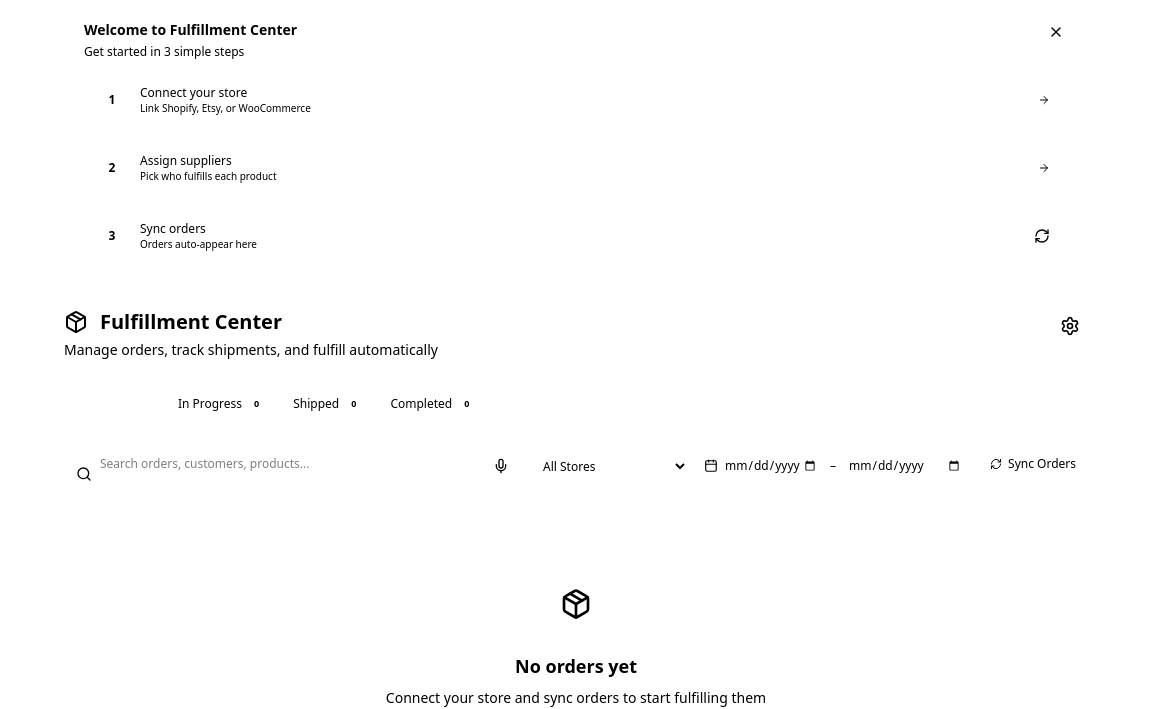
Test: FulfillmentPage › settings panel shows management tabs (Settings, Audit, Rules, Templates)
Click the button titled "Management" at (1070, 326), box [1052,308,1088,344]
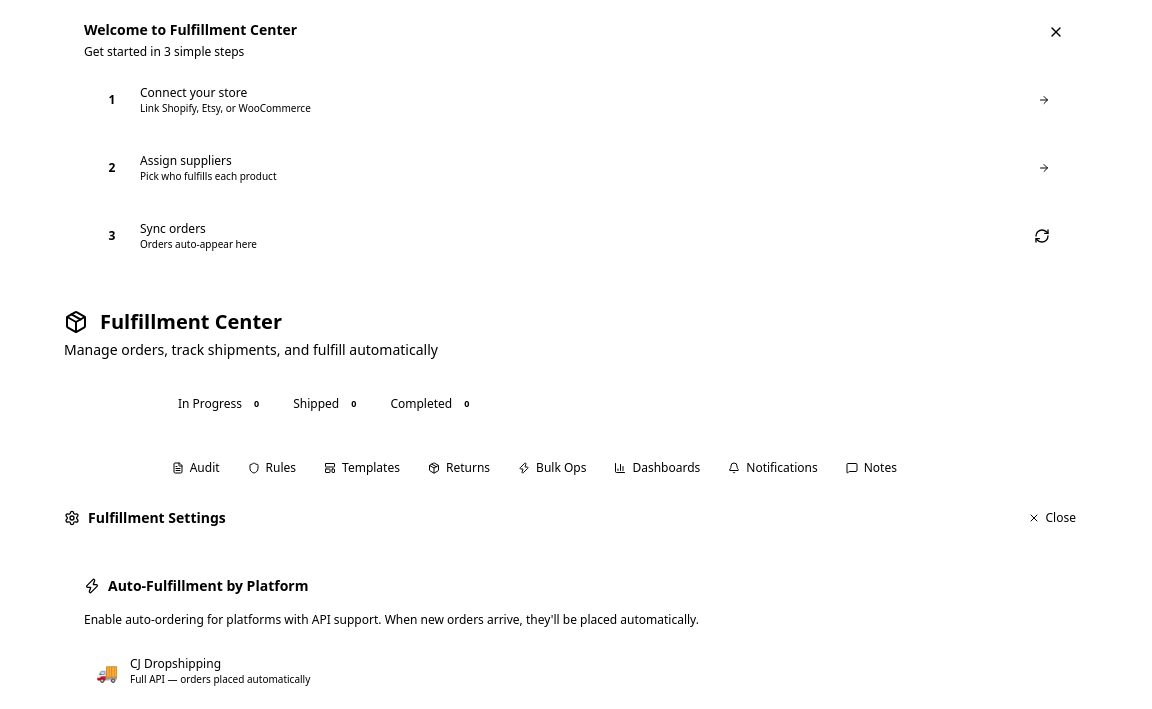
expect the button "Audit" is shown: met, box [160,452,232,484]
expect the button "Rules" is shown: met, box [236,452,308,484]
expect the button "Templates" is shown: met, box [312,452,412,484]
